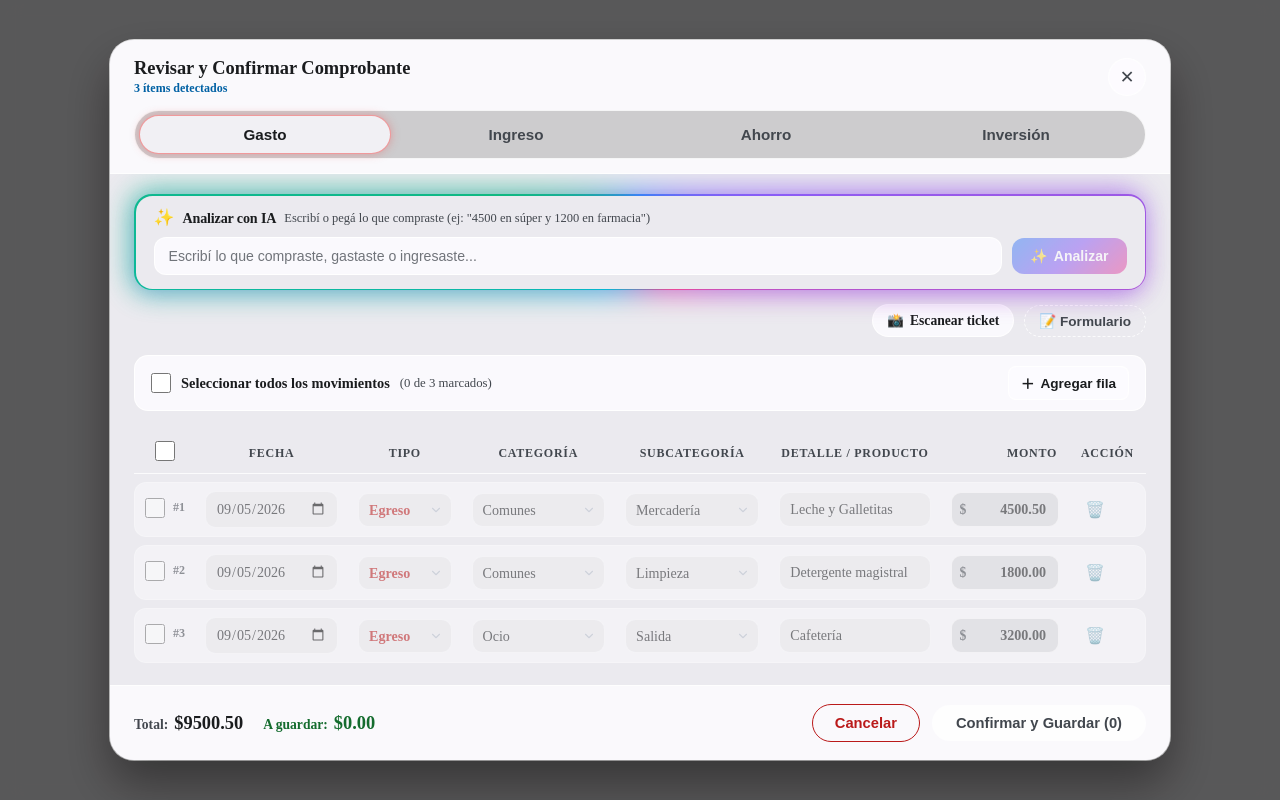
Test: ValidationModal - List Review System for Invoices and Tickets › toggles all items using the master select all checkbox
Expected: the text "$0.00" is shown, [334,712,375,734]
Click the checkbox labelled "Seleccionar todos los movimientos": (161, 383) [151,373,171,393]
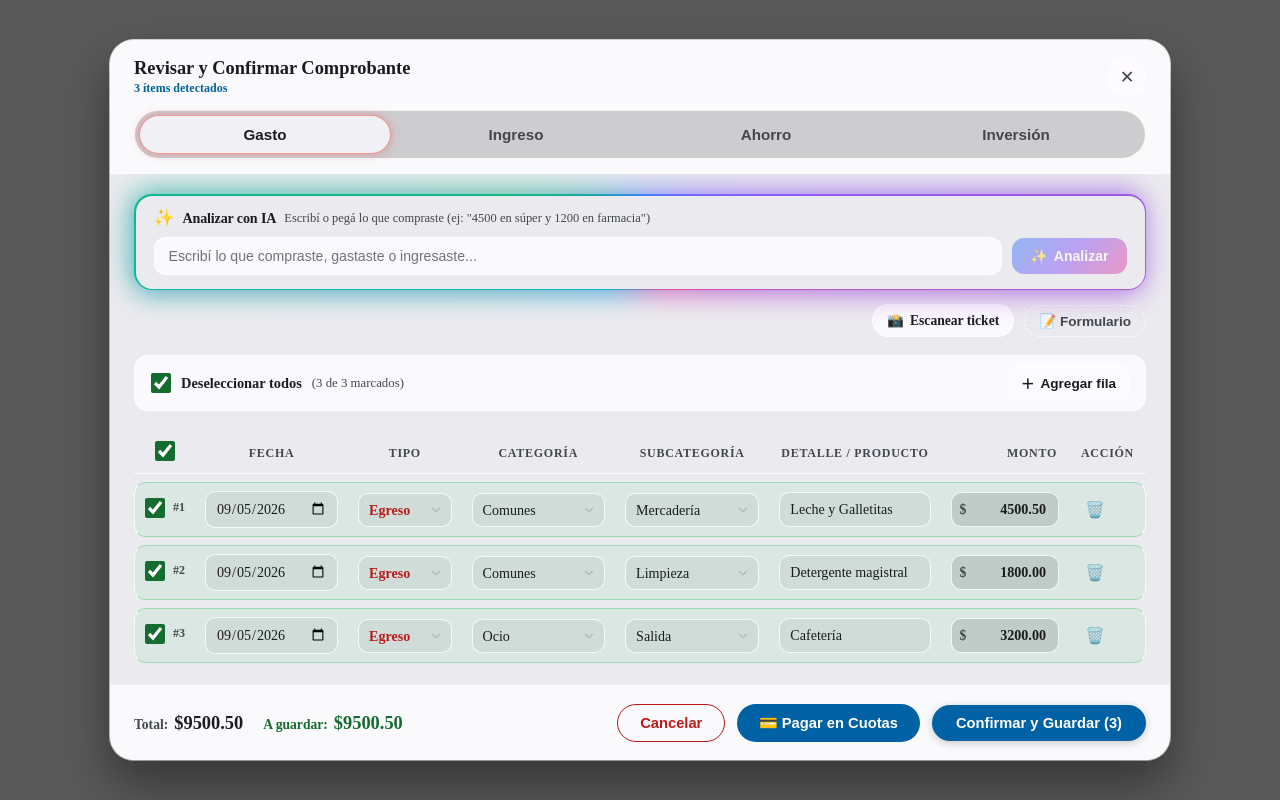
Expected: the text "$9500.50" is shown 2 times, [174,712,243,734]; [334,712,403,734]
Now the checkbox named "Seleccionar todos los movimientos" is checked
Now the text "(3 de 3 marcados)" is shown, box [312,376,404,390]
Click the checkbox named "Seleccionar todos los movimientos": (161, 383) [151,373,171,393]
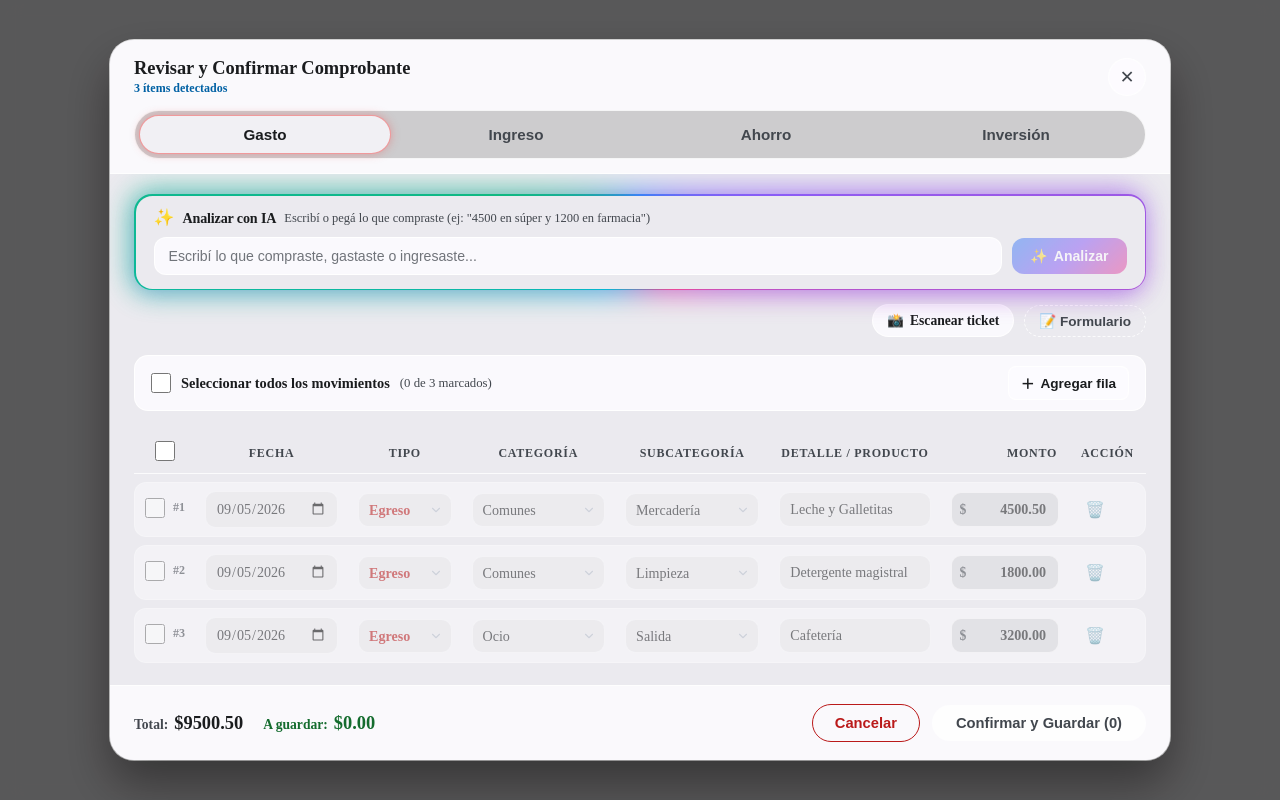
Now the checkbox labelled "Seleccionar todos los movimientos" is not checked, box [151,373,171,393]
Now the text "$0.00" is shown, box [334,712,375,734]
Now the text "(0 de 3 marcados)" is shown, box [400,376,492,390]
